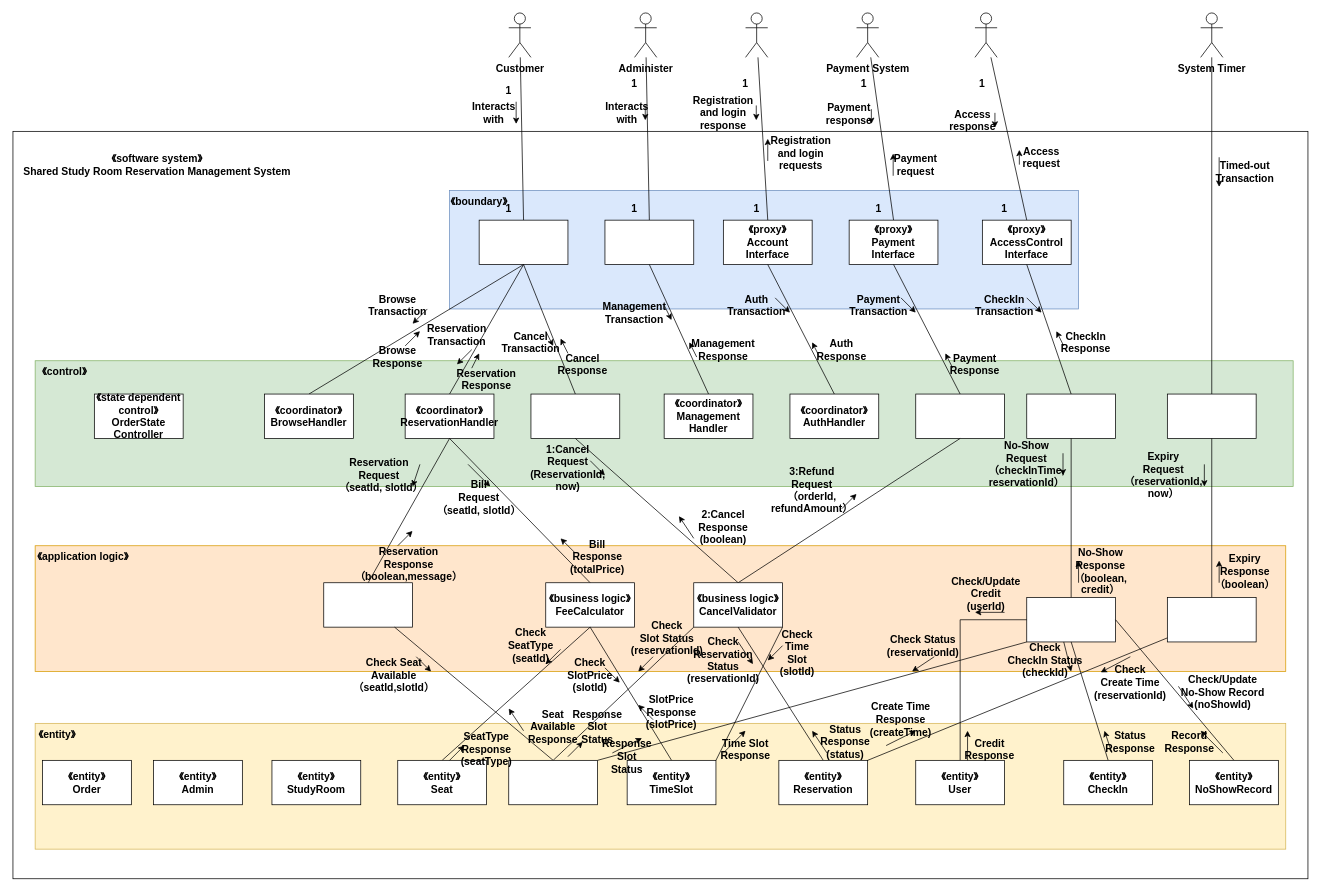
Image size: 1321x892. Some labels were removed from this diagram. The shapes that lost their labels are listed below. From the top down, each one's centre as x and y in pixels, then its label:
[756,34]: User Account System
[985,34]: Access Control System
[523,242]: 《user interaction》 Customer Interface
[649,242]: 《user interaction》 Admin Interface
[575,415]: 《coordinator》 CancelHandler
[960,415]: 《coordinator》 Payment Handler
[1071,415]: 《coordinator》 CheckIn Handler
[1211,415]: 《timer》 PaymentExpiry Timer
[368,604]: 《business logic》 ConflictDetector
[1071,619]: 《business logic》 NoShowEvaluator
[1211,619]: 《business logic》 ExpiryChecker
[553,782]: 《entity》 ReservationSlot
